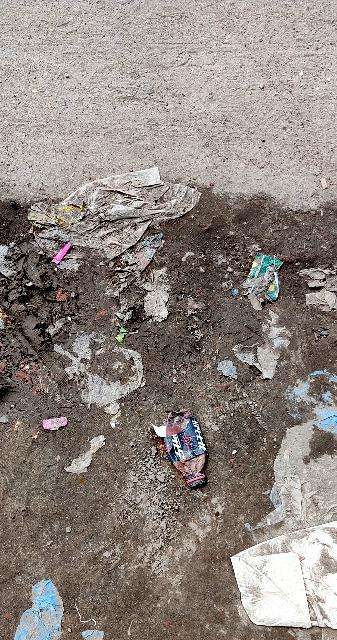bottle: (155, 416, 224, 502)
